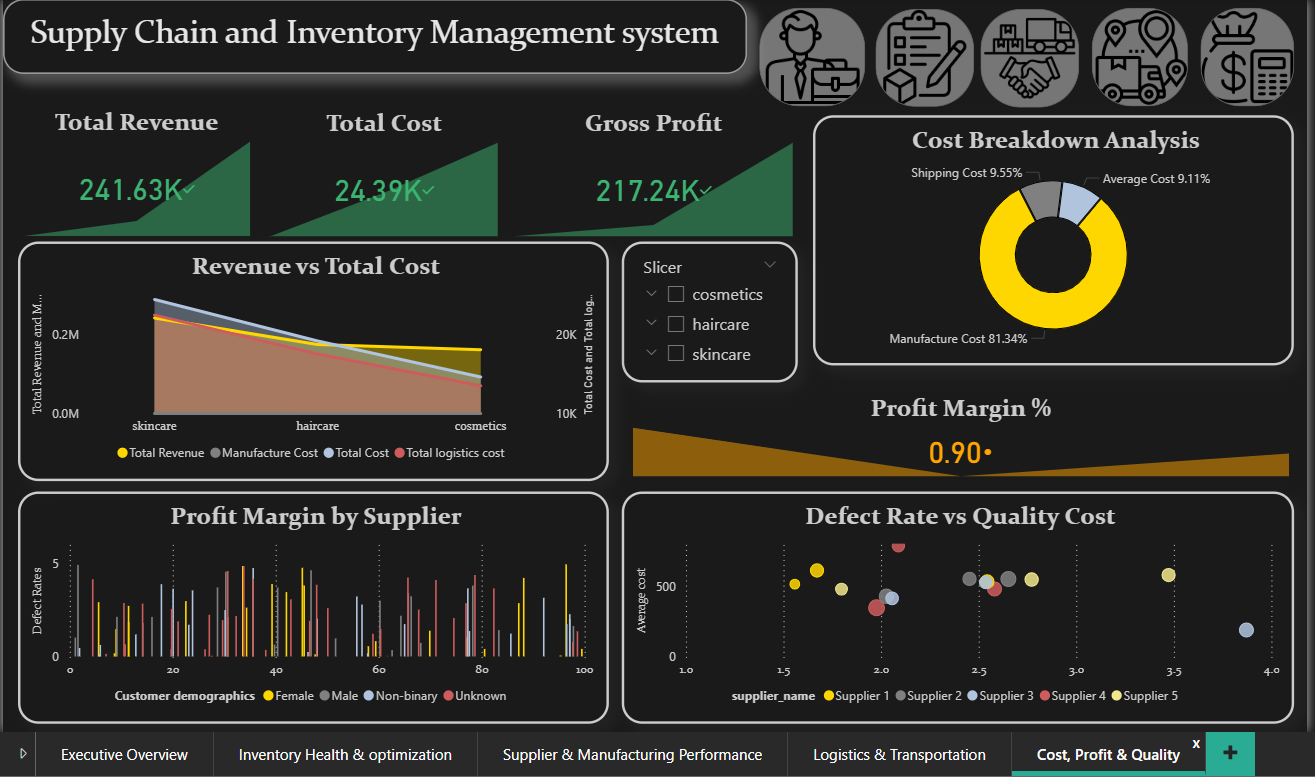

The dashboard page shown, as its layout file describes it:
{"tool":"powerbi","page":{"name":"Cost, Profit & Quality","canvas":[1280,720],"ordinal":4},"visuals":[{"type":"textbox","box":[0,0,730.1,73.6],"z":0},{"type":"actionButton","box":[780.4,0,452.8,114.1],"z":1000},{"type":"image","box":[742.3,8.6,104.3,96.9],"z":2000},{"type":"image","box":[856.4,9.8,96.9,95.7],"z":3000},{"type":"image","box":[959.5,9.8,96.9,96.9],"z":4000},{"type":"image","box":[1068.7,8.6,94.5,96.9],"z":5000},{"type":"image","box":[1175.5,8.6,92,96.9],"z":6000},{"type":"kpi","title":"Total Revenue","fields":{"Indicator":["Supply_chain_bi_data.Total Revenue"],"TrendLine":["Supply_chain_bi_data.product_type"],"Goal":["CountNonNull(Supply_chain_bi_data.location)"]},"box":[14.7,105.5,233.1,132.5],"z":7000},{"type":"kpi","title":"Total Cost","fields":{"Indicator":["Supply_chain_bi_data.Total Cost"],"TrendLine":["Supply_chain_bi_data.product_type"],"Goal":["Avg(Supply_chain_bi_data.costs)"]},"box":[257.7,106.7,233.1,131.3],"z":8000},{"type":"kpi","title":"Gross Profit","fields":{"Indicator":["Supply_chain_bi_data.Gross Profit"],"TrendLine":["Supply_chain_bi_data.product_type"],"Goal":["Avg(Supply_chain_bi_data.costs)"]},"box":[496.9,106.7,283.4,131.3],"z":9000},{"type":"kpi","title":"Profit Margin %","fields":{"TrendLine":["Supply_chain_bi_data.product_type"],"Goal":["Sum(Supply_chain_bi_data.shipping_costs)","Supply_chain_bi_data.Profit Margin"],"Indicator":["Supply_chain_bi_data.Profit Margin"]},"box":[613.5,386.5,654,87.1],"z":10000},{"type":"slicer","fields":{"Values":["Supply_chain_bi_data.product_type","Supply_chain_bi_data.supplier_name","Supply_chain_bi_data.inspection_results","Supply_chain_bi_data.location","Supply_chain_bi_data.transportation_modes"]},"box":[607.4,238,173,138.7],"z":11000},{"type":"areaChart","title":"Revenue vs Total Cost","fields":{"Category":["Supply_chain_bi_data.product_type"],"Y":["Supply_chain_bi_data.Total Revenue","Variance(Supply_chain_bi_data.manufacturing_costs)"],"Y2":["Supply_chain_bi_data.Total Cost","Supply_chain_bi_data.Total logistics cost"]},"box":[14.7,238,580.4,235.6],"z":12000},{"type":"columnChart","title":"Profit Margin by Supplier","fields":{"Category":["Supply_chain_bi_data.manufacturing_costs"],"Y":["Sum(Supply_chain_bi_data.defect_rates)"],"Series":["Supply_chain_bi_data.customer_demographics"]},"box":[14.7,483.4,580.4,228.2],"z":12001},{"type":"scatterChart","title":"Defect Rate vs Quality Cost","fields":{"X":["Avg(Supply_chain_bi_data.defect_rates)"],"Y":["Avg(Supply_chain_bi_data.costs)"],"Size":["Avg(Supply_chain_bi_data.production_volumes)"],"Series":["Supply_chain_bi_data.supplier_name"],"Category":["Supply_chain_bi_data.product_type"]},"box":[607.4,483.4,660.1,228.2],"z":12002},{"type":"donutChart","title":"Cost Breakdown Analysis","fields":{"Y":["Sum(Supply_chain_bi_data.manufacturing_costs)","Sum(Supply_chain_bi_data.shipping_costs)","Avg(Supply_chain_bi_data.costs)"]},"box":[795.1,114.1,472.4,245.4],"z":12003}]}

Visuals, with their boxes in screenshot pixels (x1, y1, x2, y2):
textbox: bbox=(3, 0, 743, 71)
actionButton: bbox=(794, 0, 1253, 112)
image: bbox=(755, 5, 861, 103)
image: bbox=(871, 7, 969, 103)
image: bbox=(976, 7, 1074, 105)
image: bbox=(1086, 5, 1182, 103)
image: bbox=(1194, 5, 1288, 103)
"Total Revenue" kpi: bbox=(18, 103, 254, 238)
"Total Cost" kpi: bbox=(265, 105, 501, 238)
"Gross Profit" kpi: bbox=(507, 105, 794, 238)
"Profit Margin %" kpi: bbox=(625, 388, 1288, 476)
slicer - Supply_chain_bi_data.product_type x Supply_chain_bi_data.supplier_name: bbox=(619, 238, 794, 378)
"Revenue vs Total Cost" areaChart: bbox=(18, 238, 606, 476)
"Profit Margin by Supplier" columnChart: bbox=(18, 486, 606, 718)
"Defect Rate vs Quality Cost" scatterChart: bbox=(619, 486, 1288, 718)
"Cost Breakdown Analysis" donutChart: bbox=(809, 112, 1288, 361)
